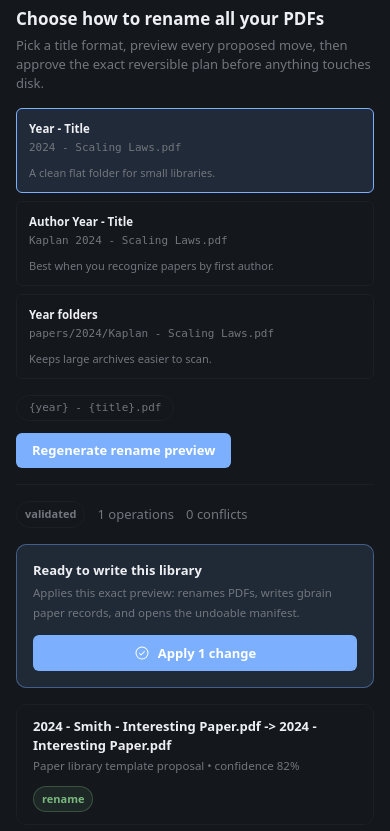
it: PaperLibraryCommandCenter › shows command errors outside the scan step
(page scrolled)
Check: the text "1 operations" is shown, box x1=98 y1=505 x2=174 y2=524
Click the button "Apply 1 change" at (195, 653), box x1=33 y1=635 x2=357 y2=671
(page scrolled)
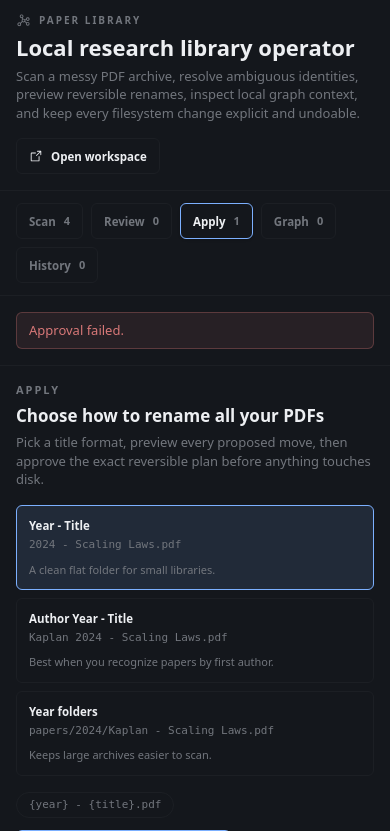
Check: the message reads "Approval failed.", box x1=29 y1=322 x2=124 y2=340
